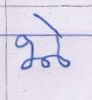o_matra: (51, 21, 67, 70)
